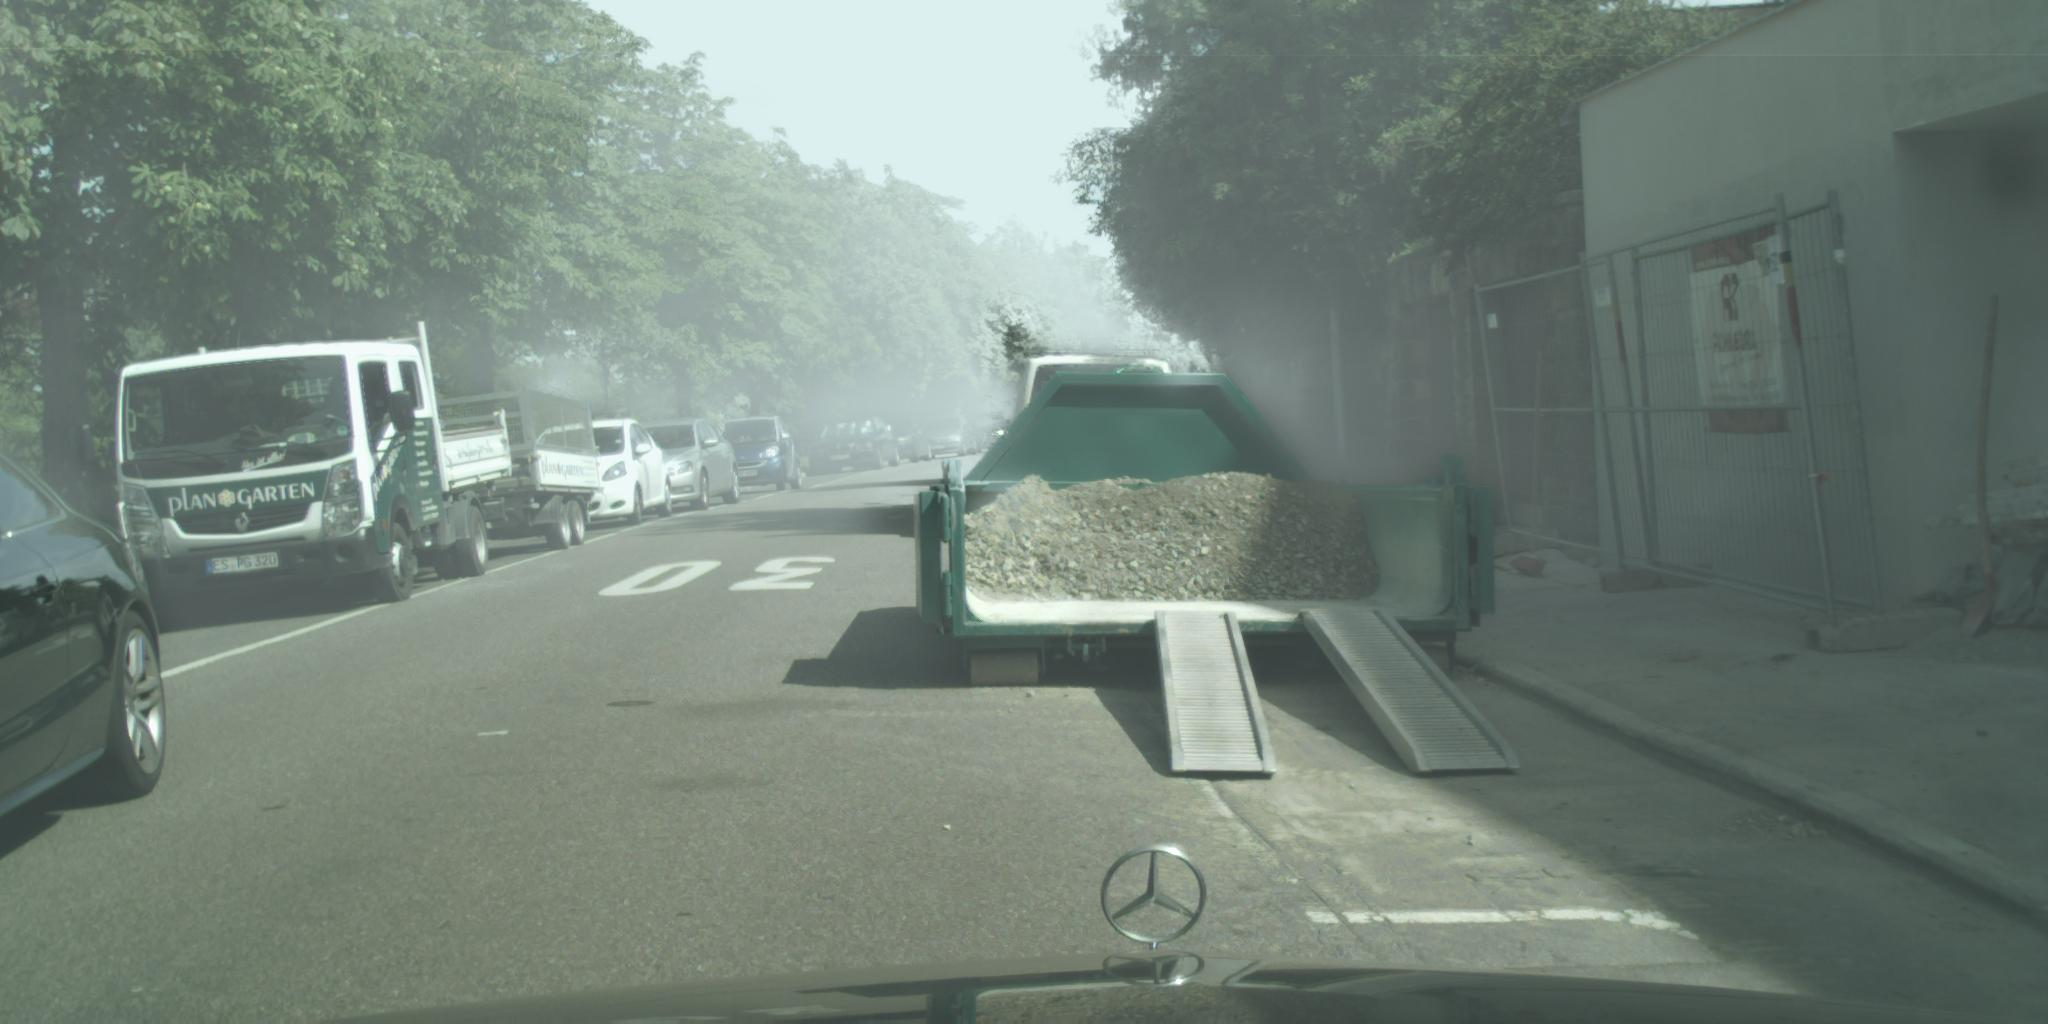car: (1, 451, 167, 822), (1008, 349, 1179, 453), (530, 419, 674, 526), (636, 418, 742, 512), (718, 417, 803, 492), (808, 417, 903, 477), (876, 415, 934, 464), (920, 415, 980, 461), (968, 414, 1017, 455)
truck: (71, 323, 603, 636)
